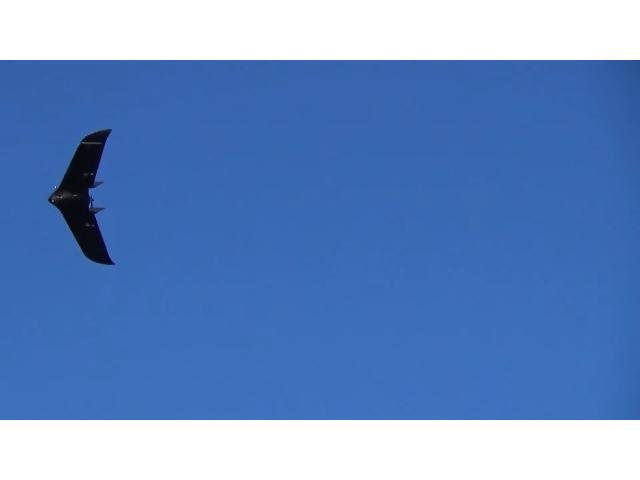Anti-Drone: (33, 123, 147, 269)
